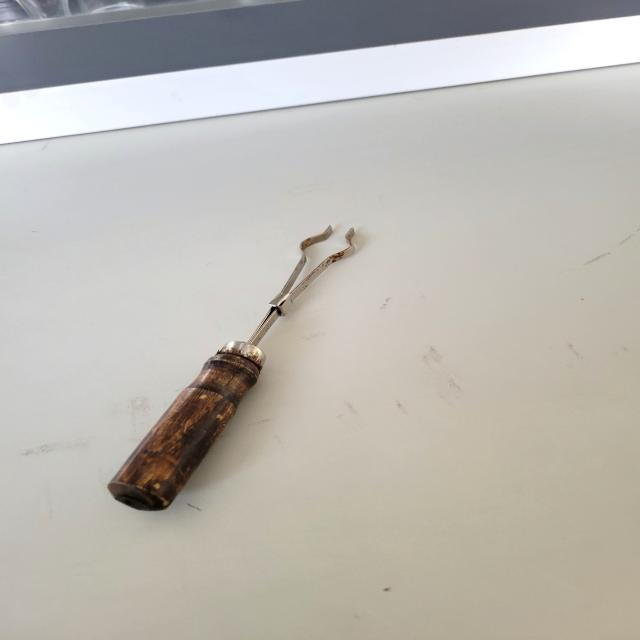TestTube_Holder: (74, 208, 396, 539)
